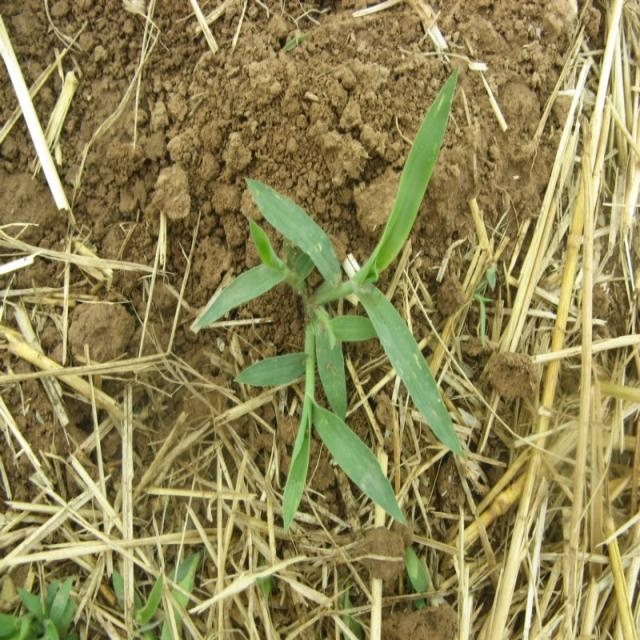bg: (197, 74, 465, 522)
